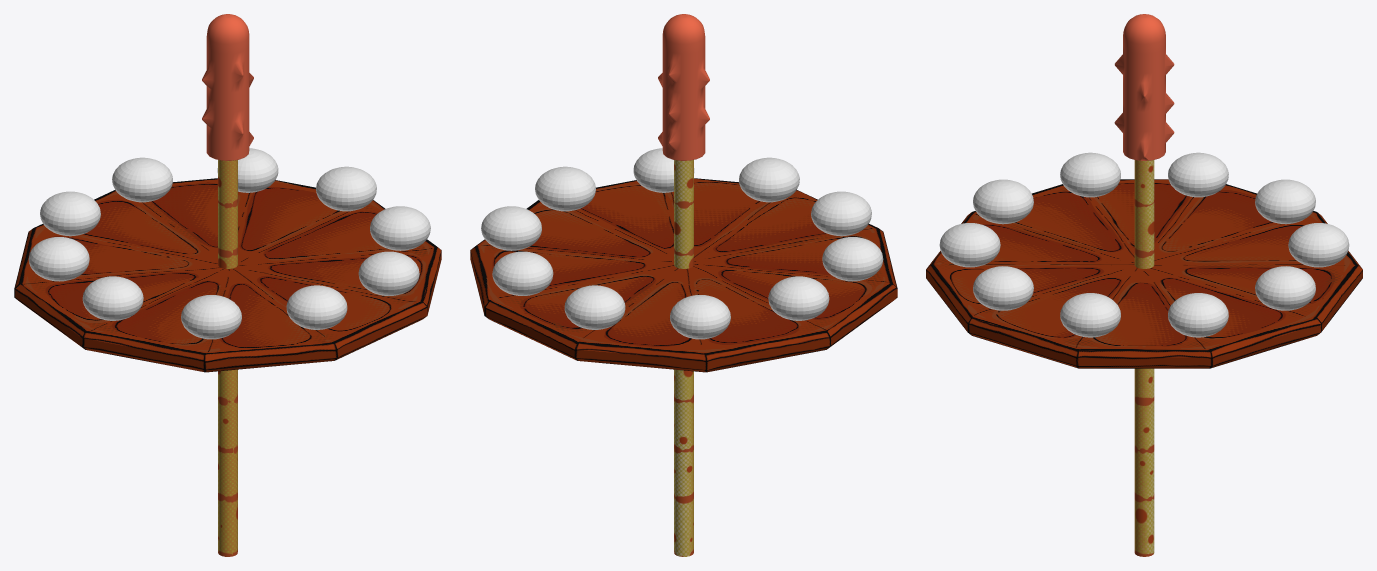
The model's file is Leaf_Platform_Red22_v0.fbx.
3 views of the same model, side by side, from view 1: azimuth 30°, elevation 25°; view 2: azimuth 150°, elevation 25°; view 3: azimuth 270°, elevation 25° (orthographic).
Visible parts, largest first — view 1: Platform_Red22m, Floats22, LightTop.001, Pole.001; view 2: Platform_Red22m, Floats22, LightTop.001, Pole.001; view 3: Platform_Red22m, Floats22, LightTop.001, Pole.001.
Boxes of the visible parts, <box> form: Platform_Red22m: <box>14,178,441,372</box>; Floats22: <box>28,148,430,339</box>; LightTop.001: <box>202,14,253,160</box>; Pole.001: <box>218,160,237,556</box>; Platform_Red22m: <box>470,178,897,372</box>; Floats22: <box>481,148,883,339</box>; LightTop.001: <box>658,14,709,160</box>; Pole.001: <box>674,160,693,556</box>; Platform_Red22m: <box>926,179,1362,368</box>; Floats22: <box>939,152,1349,337</box>; LightTop.001: <box>1114,14,1174,160</box>; Pole.001: <box>1134,160,1154,556</box>.
Bounding box in the file's own units: 2092 × 2200 × 2982.
